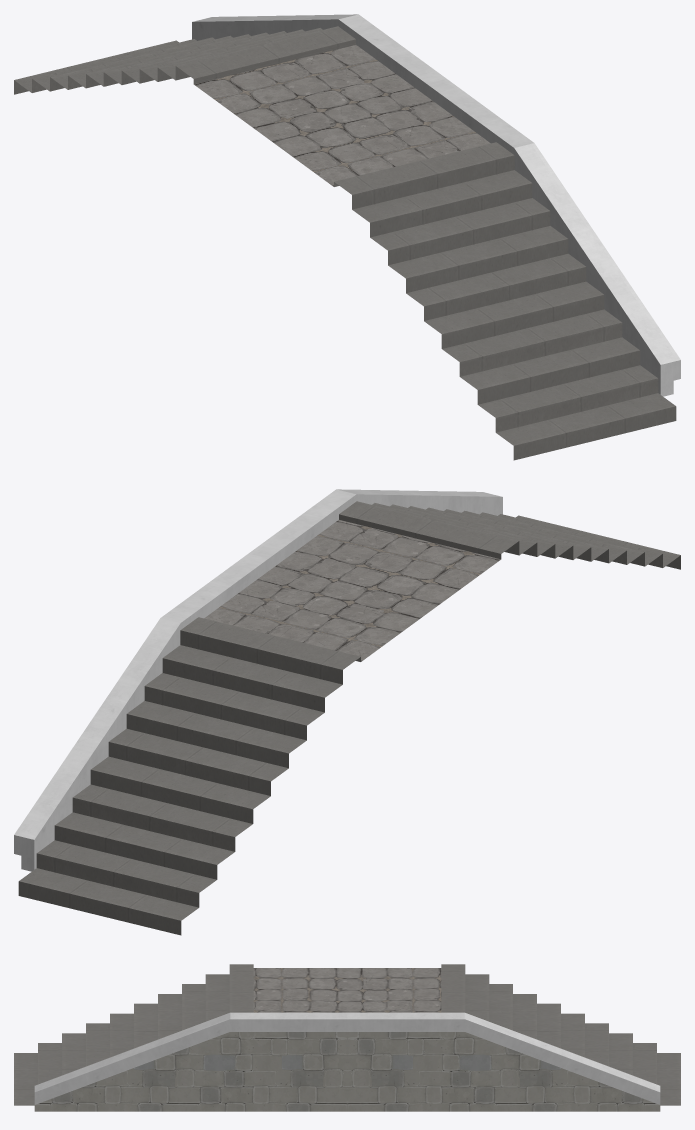
File: BilldingStair_C.fbx
3 renders of one model, top to bottom at view 1: azimuth 30°, elevation 25°; view 2: azimuth 150°, elevation 25°; view 3: azimuth 270°, elevation 25°, orthographic. The views are drawn at different scales.
Parts seen in each view (by area): view 1: BilldingStair_C; view 2: BilldingStair_C; view 3: BilldingStair_C.
Part boxes in pixels (<box>): BilldingStair_C: <box>14,14,680,460</box>; BilldingStair_C: <box>14,489,680,935</box>; BilldingStair_C: <box>14,964,680,1111</box>.
Size of the model in its own units: 338 by 272 by 1598.
Materials: 4 (4 with a texture image).
